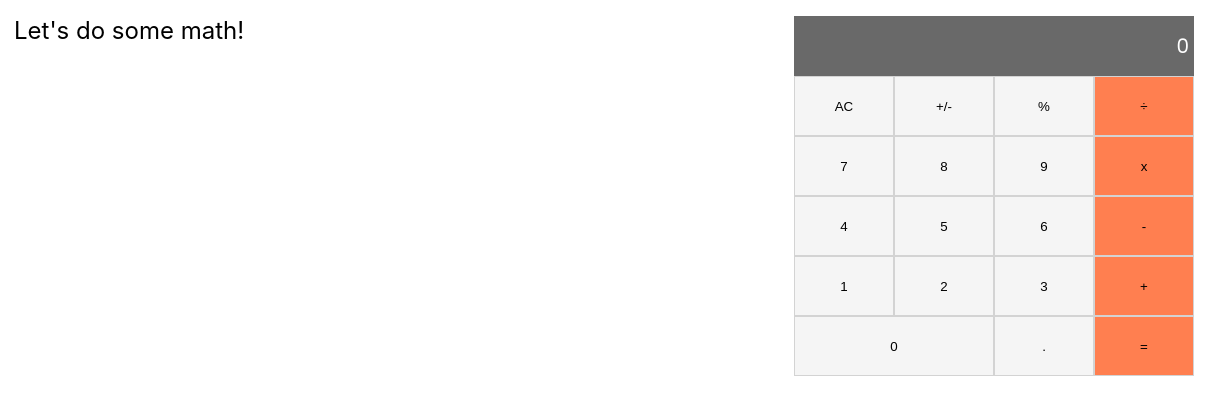
Test case: component test › Simulation of user clicking button 9 twice
This screenshot has width=1211, height=393.
Click the button "9" at (1044, 166), box [994,136,1094,196]
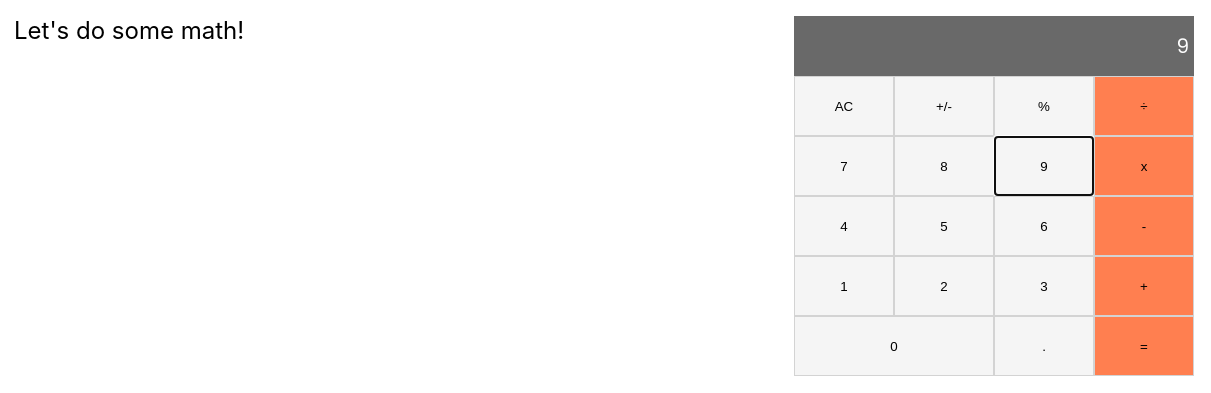
Click the button "9" at (1044, 166), box [994,136,1094,196]
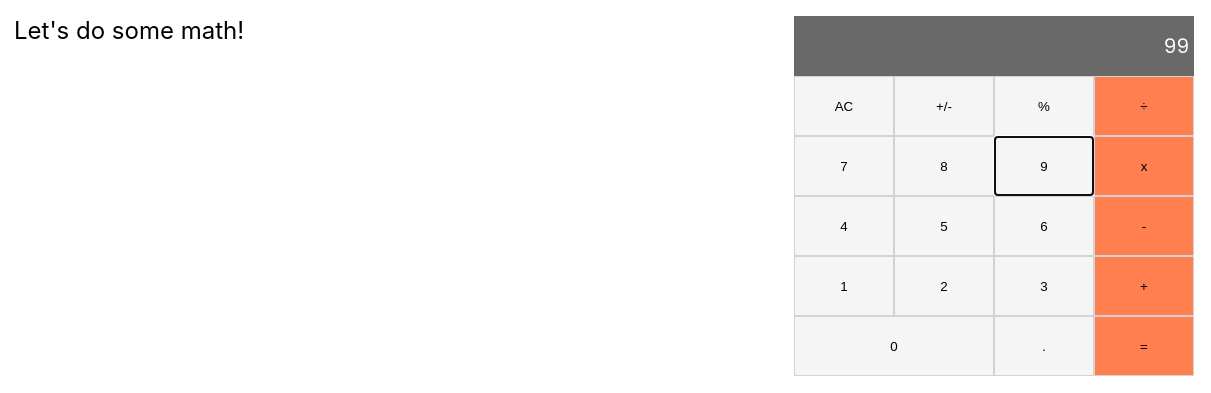
expect the text "99" is shown: met, box [1164,31,1189,61]
